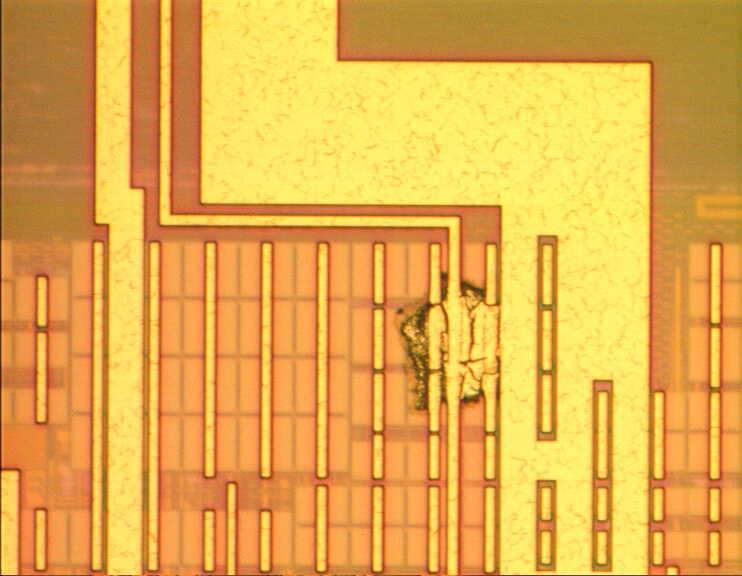BLOCK ETCH: (395, 276, 509, 420)
